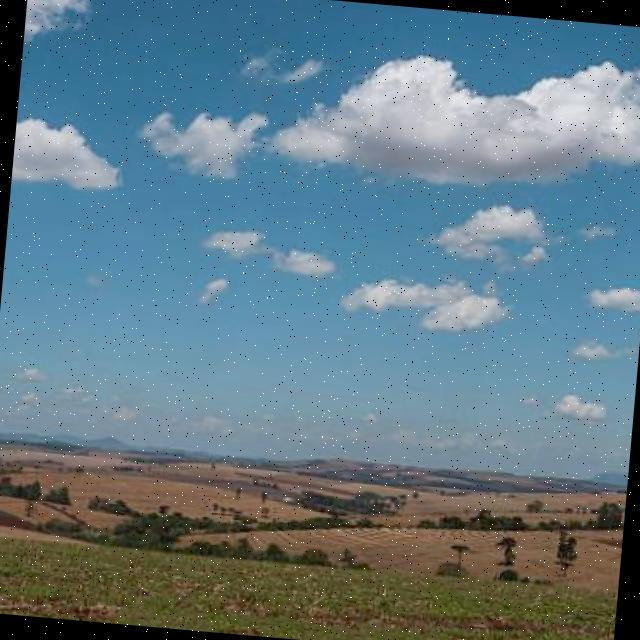St: (127, 1, 640, 238)
